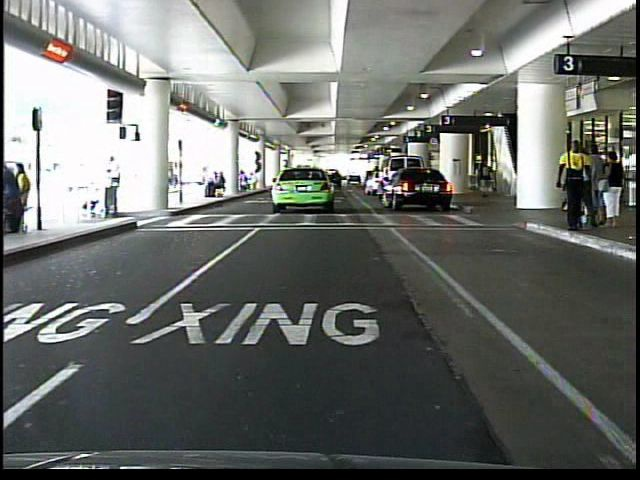person: (549, 140, 592, 238), (581, 145, 606, 233), (101, 156, 134, 222), (599, 145, 621, 235), (475, 155, 498, 204)
